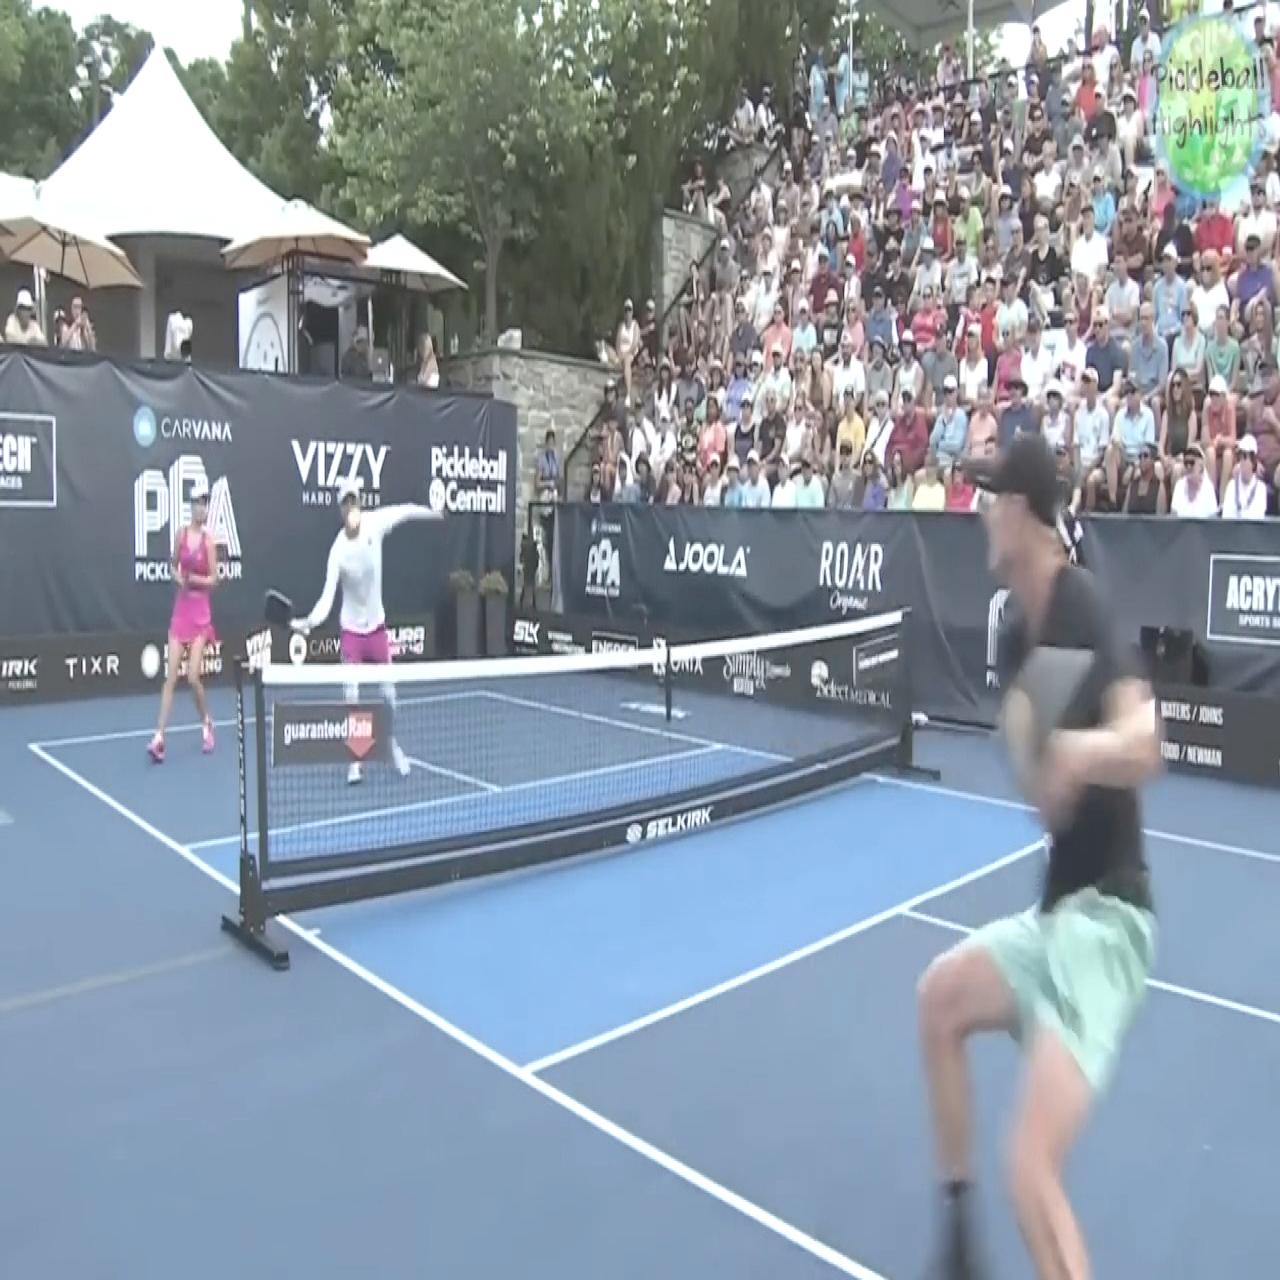Pickleball: (346, 505, 365, 533)
